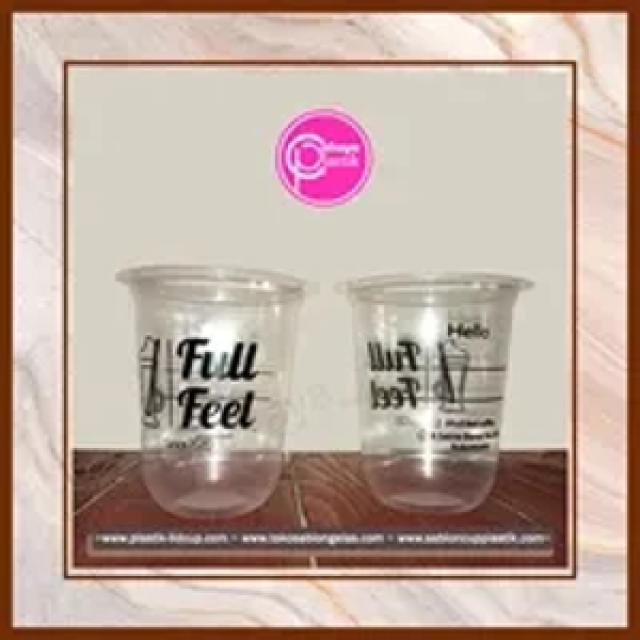plastic cup: (109, 254, 322, 527), (333, 262, 542, 523)
